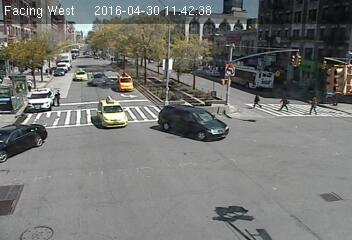neg: (112, 70, 134, 99), (13, 111, 33, 138), (219, 195, 237, 220), (190, 49, 205, 68), (306, 17, 320, 36), (22, 73, 34, 90), (110, 15, 122, 32), (93, 49, 105, 64), (71, 45, 82, 60), (292, 52, 302, 66), (236, 10, 246, 24), (197, 110, 205, 121), (112, 105, 120, 116)
pos: (304, 91, 323, 117), (329, 85, 346, 108), (252, 90, 265, 108), (51, 87, 64, 105), (278, 93, 290, 110)
